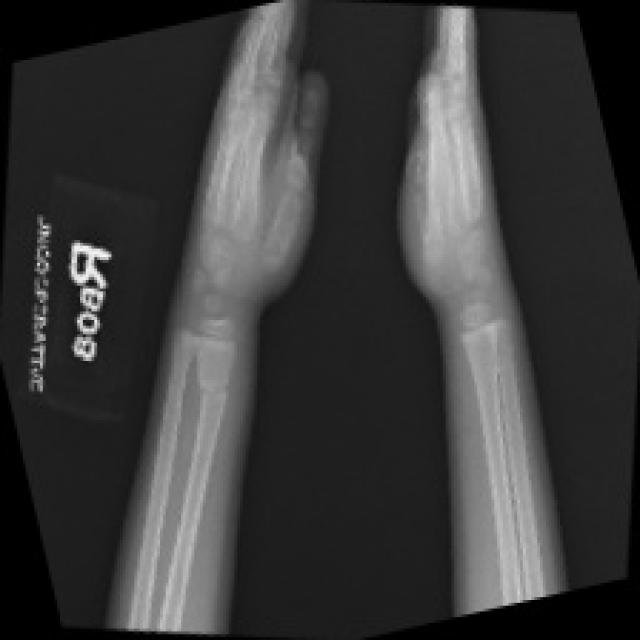fracture: (180, 352, 252, 448)
